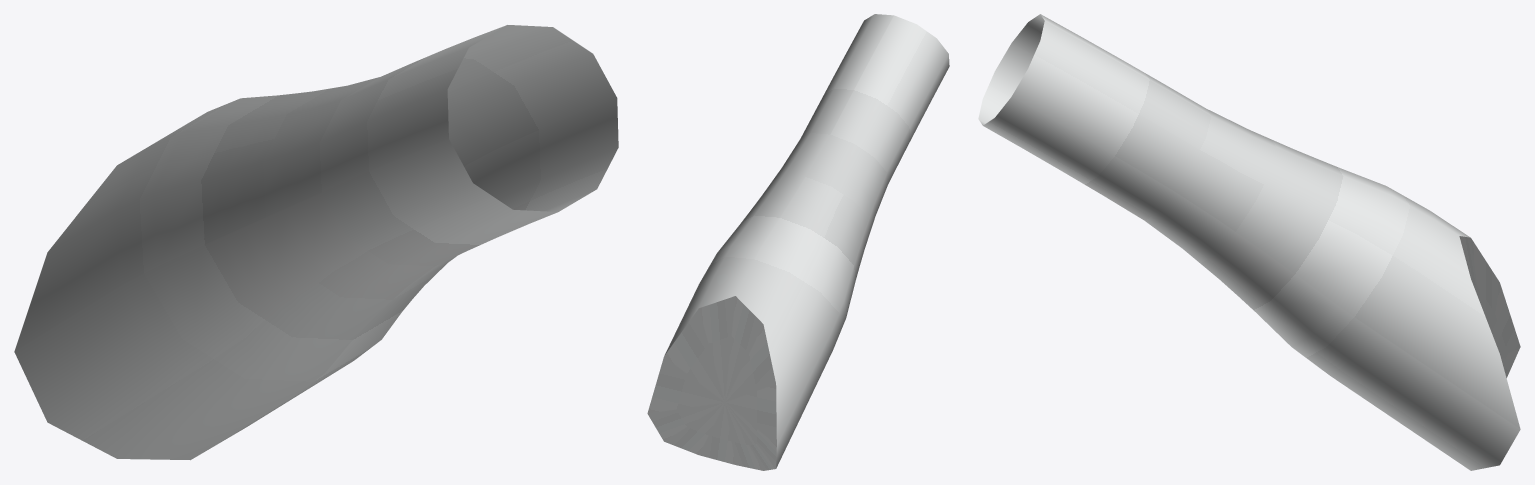
File: luminairearm_caltrans10ftdouble_c6_pedestal.obj
3 views of the same model, side by side, from view 1: azimuth 30°, elevation 25°; view 2: azimuth 150°, elevation 25°; view 3: azimuth 270°, elevation 25° (orthographic). The views are drawn at different scales.
Parts seen in each view (by area): view 1: luminairearm_caltrans10ftdouble_c6_pedestal; view 2: luminairearm_caltrans10ftdouble_c6_pedestal; view 3: luminairearm_caltrans10ftdouble_c6_pedestal.
Part boxes in pixels (left/top/right/bottom): luminairearm_caltrans10ftdouble_c6_pedestal: left=14, top=25, right=618, bottom=460; luminairearm_caltrans10ftdouble_c6_pedestal: left=647, top=14, right=949, bottom=470; luminairearm_caltrans10ftdouble_c6_pedestal: left=978, top=14, right=1520, bottom=470.
Size of the model in its own units: 0.3375 by 0.8311 by 0.936.
